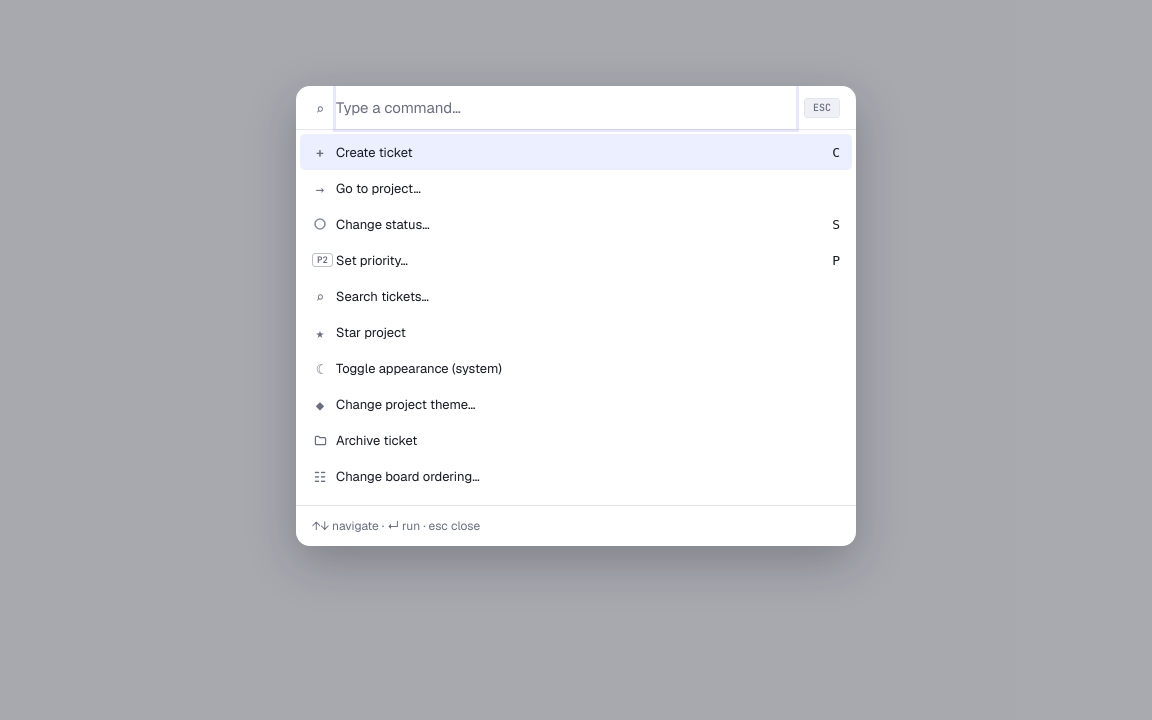
Test: command palette › a ticket key typed at the root › answers from the rows it already holds, asking Rust nothing
The width and height of the screenshot is (1152, 720).
Type "LC-60" into the dropdown. click: (566, 108)
box: [336, 86, 796, 129]
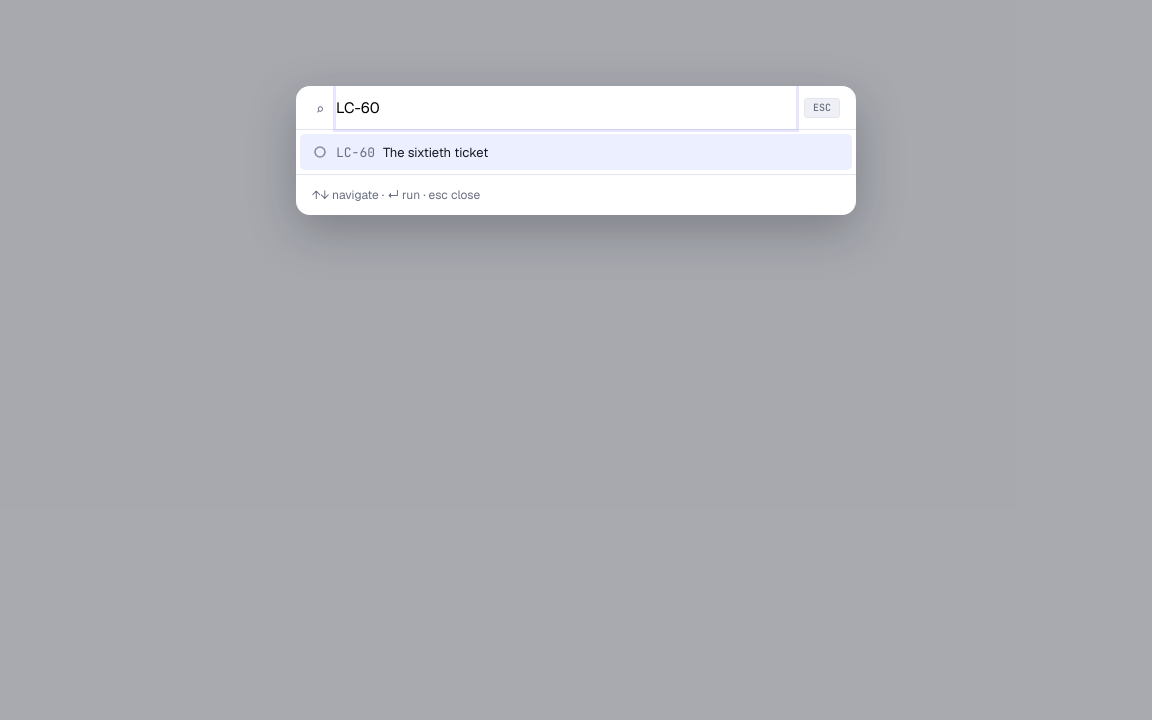
Check: the option shows "LC-60", box [300, 134, 852, 170]
